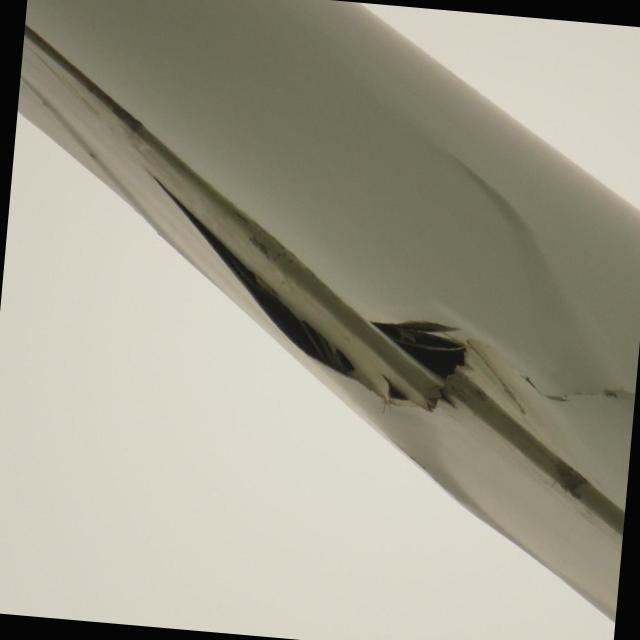crack: (139, 184, 640, 446)
